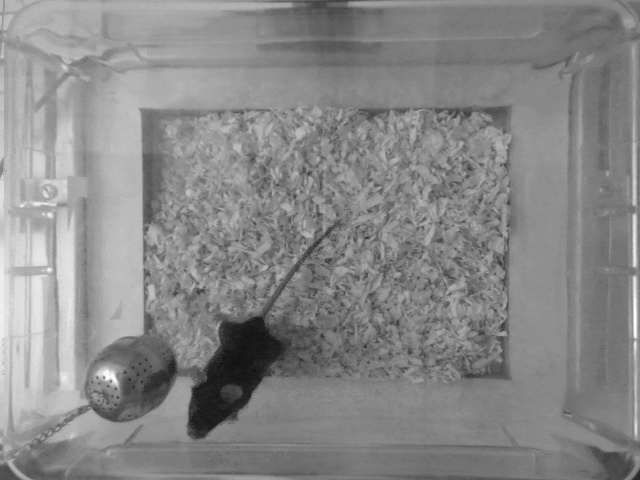mice: (183, 213, 347, 444)
